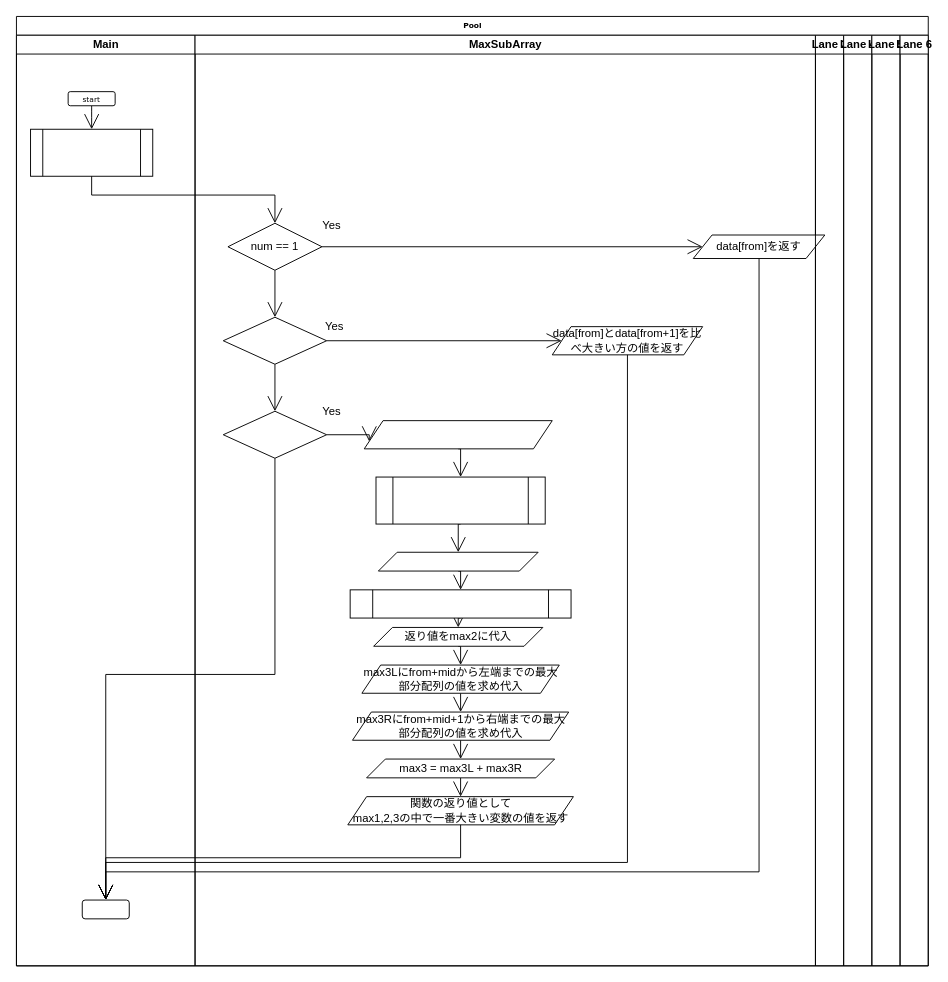
This 948x982 diagram has some shape labels left out. Each missing label, with the centre of its shape:
"end" goes at pixel 105 909.
"MaxSubArray(0, num)" goes at pixel 91 152.
"maxSubarray(from+mid,num -mid)" goes at pixel 460 603.
"maxSubarray(from,mid)" goes at pixel 460 500.
"midに要素数の半分の数値を代入" goes at pixel 457 434.
"num == 2" goes at pixel 274 340.
"num == 3" goes at pixel 274 434.
"返り値をmax1に代入" goes at pixel 457 561.
